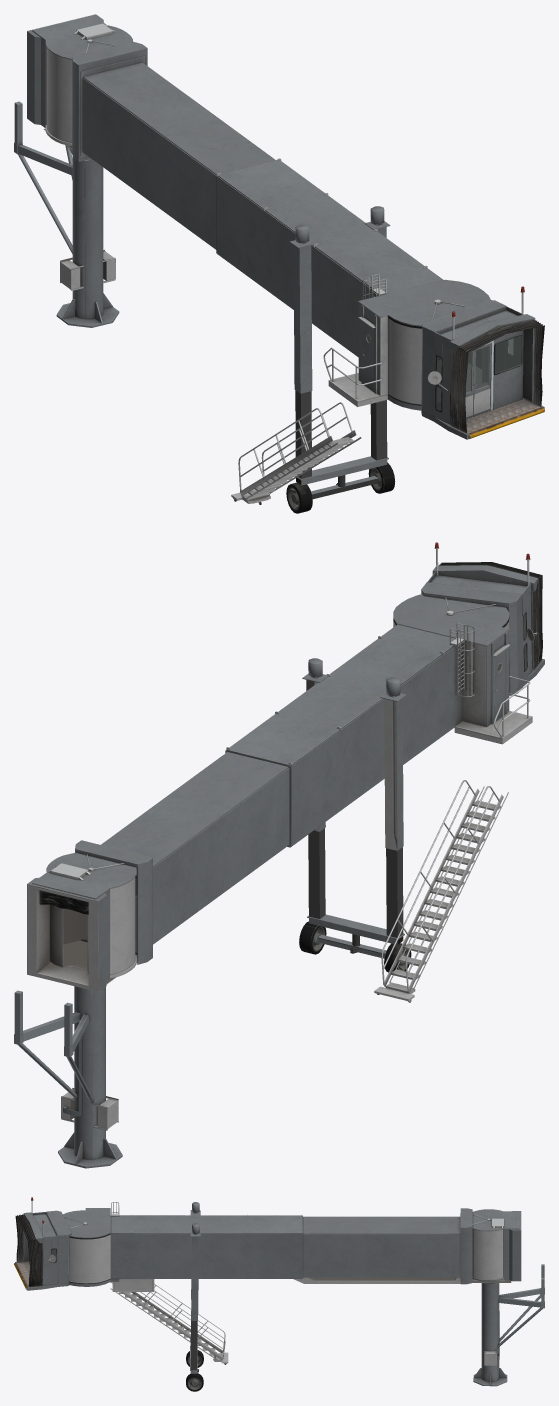
File: jetway.glb
3 renders of one model, top to bottom at view 1: azimuth 30°, elevation 25°; view 2: azimuth 150°, elevation 25°; view 3: azimuth 270°, elevation 25°, orthographic. The views are drawn at different scales.
Visible parts, largest first — view 1: SM_Jetway_1, SM_Jetway2_0, SM_Jetway3_6, SM_Jetway4_5, SM_Jetway6_3, SM_Jetway5_4, SM_Jetway1_2, SM_JetwayGlass_7; view 2: SM_Jetway_1, SM_Jetway2_0, SM_Jetway4_5, SM_Jetway3_6, SM_Jetway5_4, SM_Jetway6_3, SM_Jetway1_2; view 3: SM_Jetway_1, SM_Jetway2_0, SM_Jetway3_6, SM_Jetway4_5, SM_Jetway5_4, SM_Jetway1_2, SM_Jetway6_3.
Part boxes in pixels (bbox=[...]): SM_Jetway_1: bbox=[82, 62, 443, 360]; SM_Jetway2_0: bbox=[14, 14, 147, 327]; SM_Jetway3_6: bbox=[421, 286, 544, 439]; SM_Jetway4_5: bbox=[323, 279, 490, 410]; SM_Jetway6_3: bbox=[286, 390, 395, 513]; SM_Jetway5_4: bbox=[231, 402, 361, 504]; SM_Jetway1_2: bbox=[290, 206, 390, 393]; SM_JetwayGlass_7: bbox=[367, 335, 521, 410]; SM_Jetway_1: bbox=[81, 623, 474, 954]; SM_Jetway2_0: bbox=[14, 840, 152, 1168]; SM_Jetway4_5: bbox=[393, 594, 532, 744]; SM_Jetway3_6: bbox=[421, 542, 544, 695]; SM_Jetway5_4: bbox=[374, 780, 508, 1002]; SM_Jetway6_3: bbox=[299, 828, 411, 972]; SM_Jetway1_2: bbox=[302, 658, 406, 850]; SM_Jetway_1: bbox=[110, 1202, 460, 1291]; SM_Jetway2_0: bbox=[460, 1208, 544, 1386]; SM_Jetway3_6: bbox=[14, 1197, 71, 1290]; SM_Jetway4_5: bbox=[63, 1208, 119, 1286]; SM_Jetway5_4: bbox=[110, 1282, 228, 1364]; SM_Jetway1_2: bbox=[190, 1202, 200, 1320]; SM_Jetway6_3: bbox=[186, 1321, 203, 1391].
Size of the model in its own units: 4.55 by 9.21 by 25.55.
3 materials, 1 textured.
